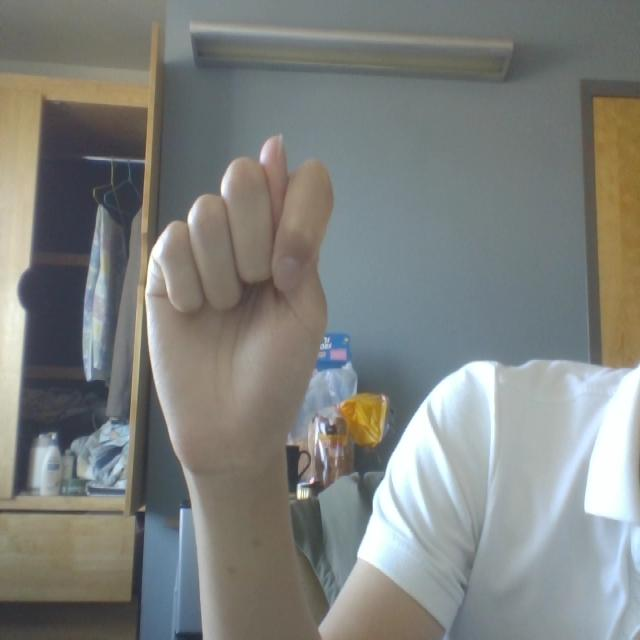T: (114, 124, 377, 500)
